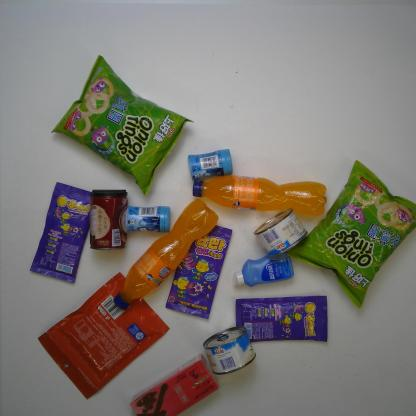Candy: (165, 213, 233, 320), (30, 183, 98, 283), (235, 295, 328, 345)
Canned Food: (255, 208, 309, 258), (203, 328, 255, 373), (89, 190, 126, 249)
Dried Fruit: (38, 272, 168, 399)
Drink: (113, 197, 219, 311), (194, 176, 326, 216)
Gum: (187, 148, 232, 182), (125, 204, 170, 232)
Instant Drink: (130, 354, 220, 414)
Personal Hygiene: (232, 250, 294, 286)
Puffed Food: (51, 55, 194, 195), (288, 161, 416, 308)
